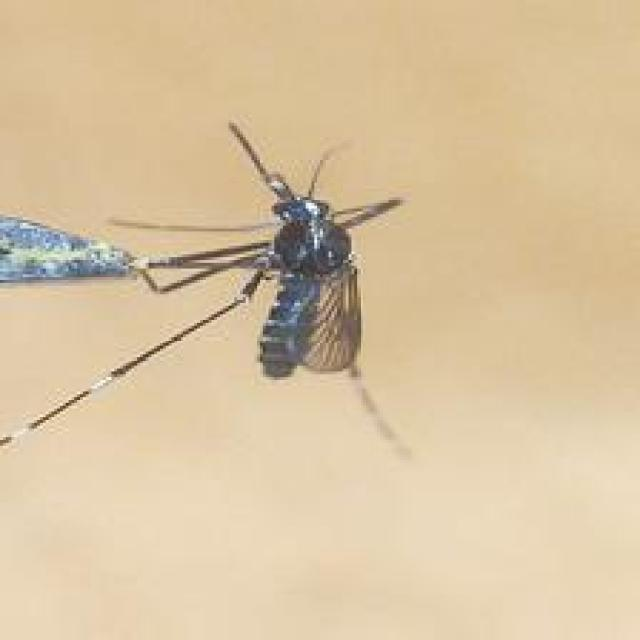Aedes albopictus: (0, 118, 414, 464)
